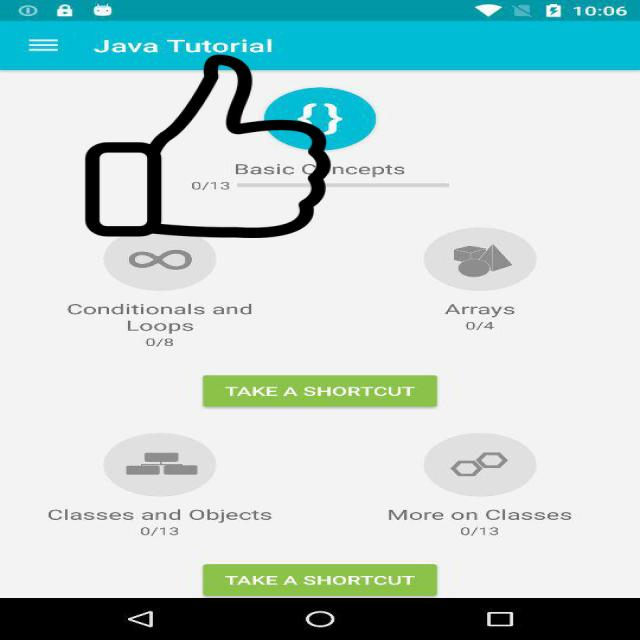privacy zuckering: (82, 55, 334, 238)
